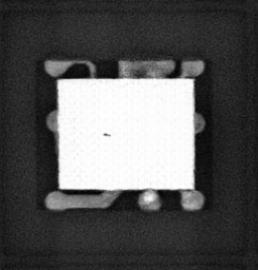DIE_INK: (101, 130, 112, 137)
